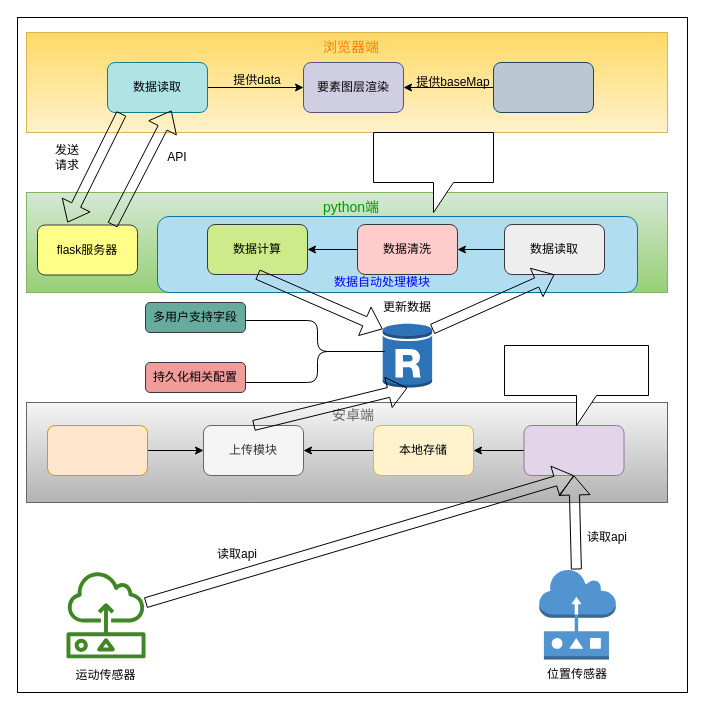
Image size: 705x710. Some labels were removed from this diagram. Here are the shapes that lost their labels. From the top down, the centre of each, then its label:
At pixel 543 87: "地图加载".
At pixel 433 172: "每2s一次检测redis中update的值，并触发自动更新".
At pixel 576 385: "以一定的采样频率，读取某个时间点的运动传感器和位置传感器信息".
At pixel 97 450: "车型录入".
At pixel 573 450: "记录模块".
